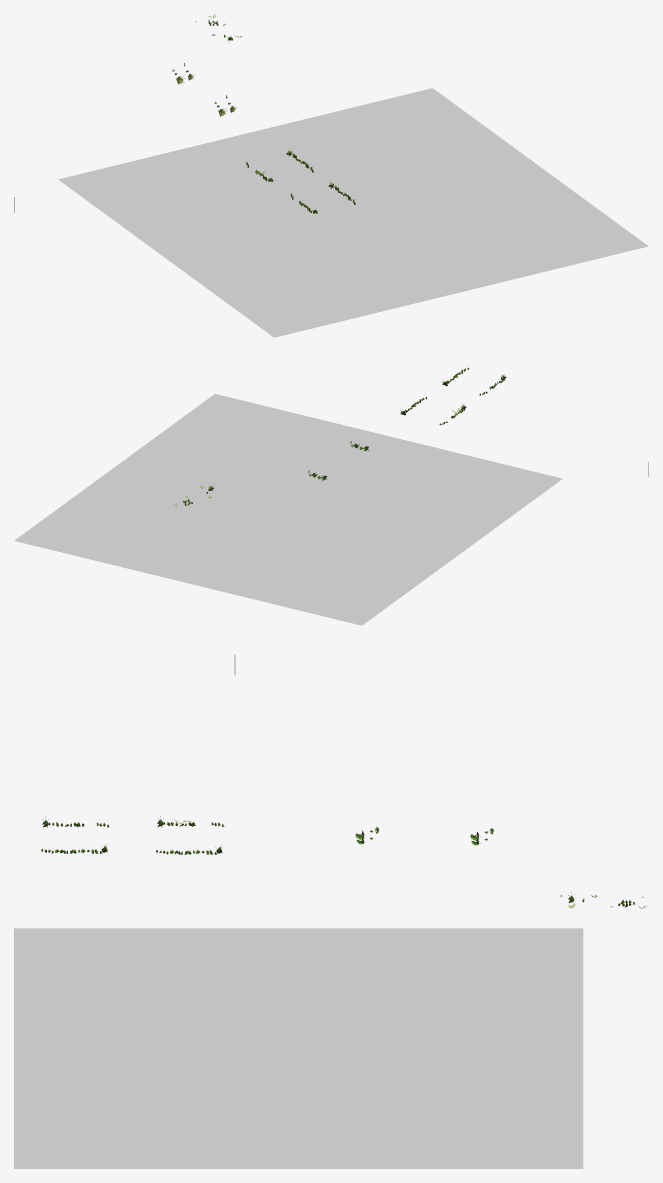
Rendered from buildings_grass.fbx.
The picture shows the model from 3 angles, top to bottom: view 1: azimuth 30°, elevation 25°; view 2: azimuth 150°, elevation 25°; view 3: azimuth 270°, elevation 25°; orthographic projection. The views are drawn at different scales.
Parts seen in each view (by area): view 1: grass_ground_color; view 2: grass_ground_color; view 3: grass_ground_color.
Boxes of the visible parts, x1,y1,x2,y2 form: grass_ground_color: (58, 88, 648, 337); grass_ground_color: (14, 394, 562, 625); grass_ground_color: (14, 928, 583, 1168).
Bounding box in the file's own units: 14704 × 3124 × 11153.
